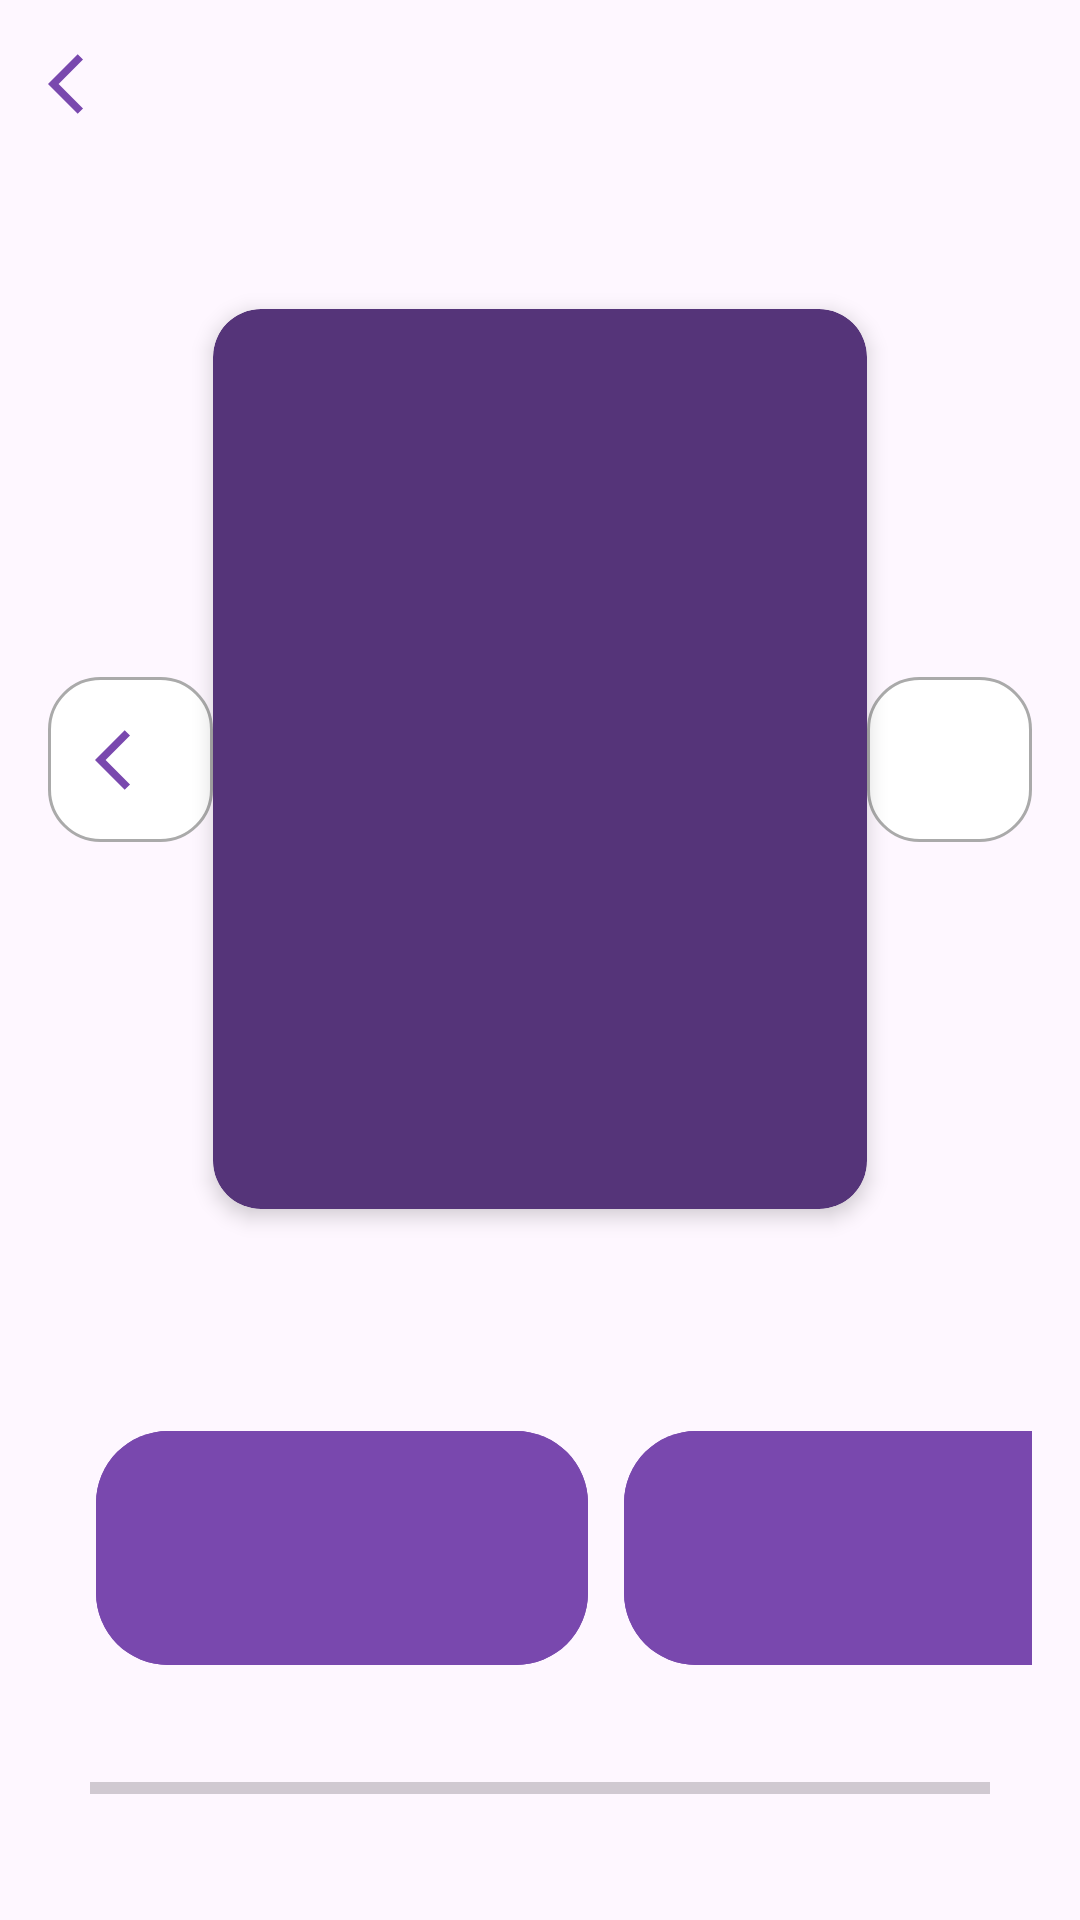

Where icons sit on this 1080*1920 app screen, as bbox=(x1, y1, x2, y2):
Previous Question: bbox=(48, 677, 213, 842)
Return: bbox=(48, 54, 83, 114)
